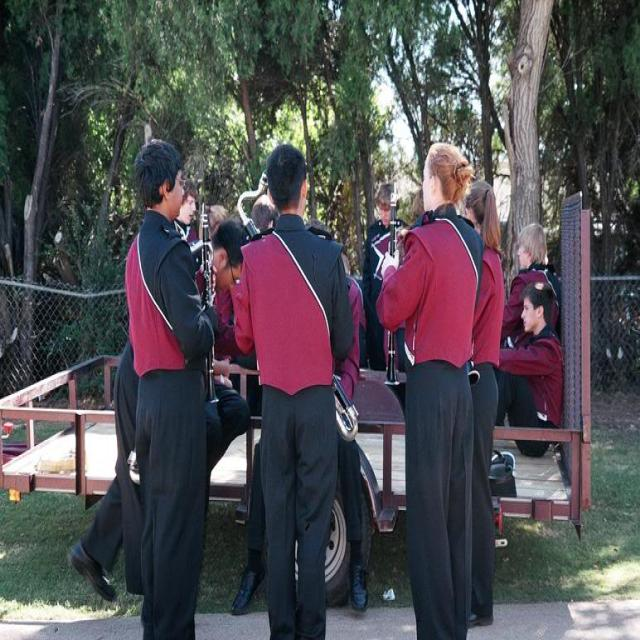clarinet: (196, 203, 222, 409), (383, 183, 402, 389)
saxophone: (236, 171, 362, 442)
